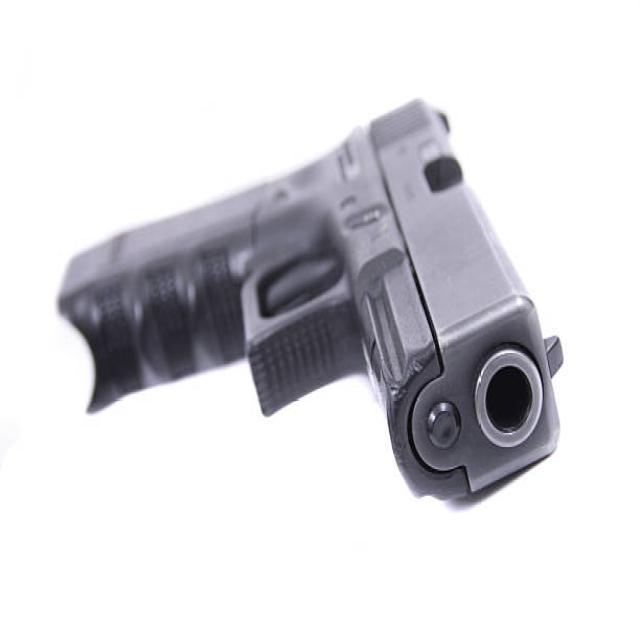pistol: (54, 96, 572, 517)
